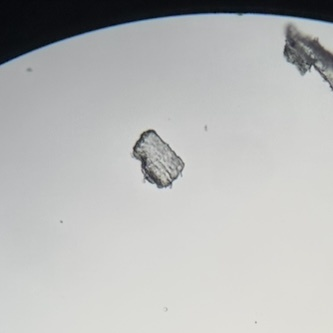microplastic: (283, 23, 333, 90), (132, 130, 185, 189)
